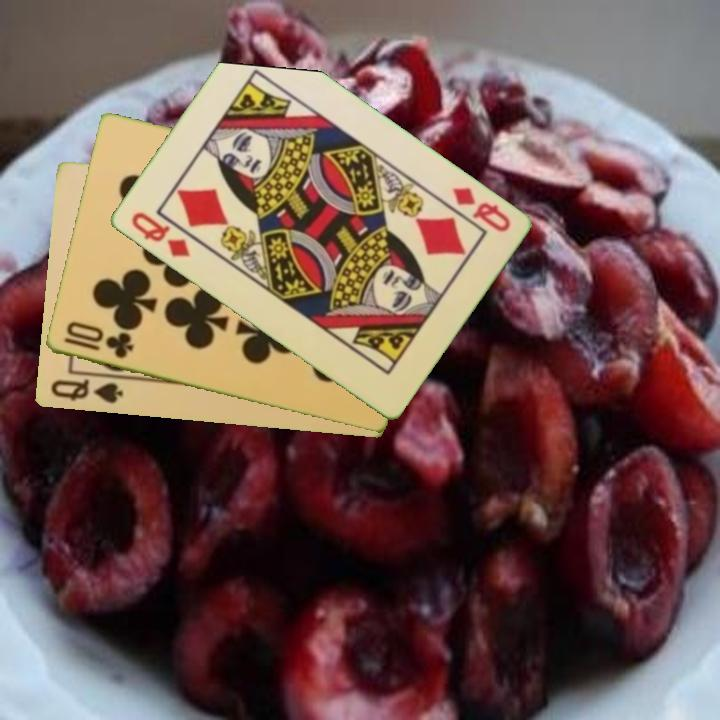10c: (60, 318, 136, 362)
Qd: (127, 208, 193, 261), (448, 183, 513, 236)
Qs: (47, 376, 126, 407)
